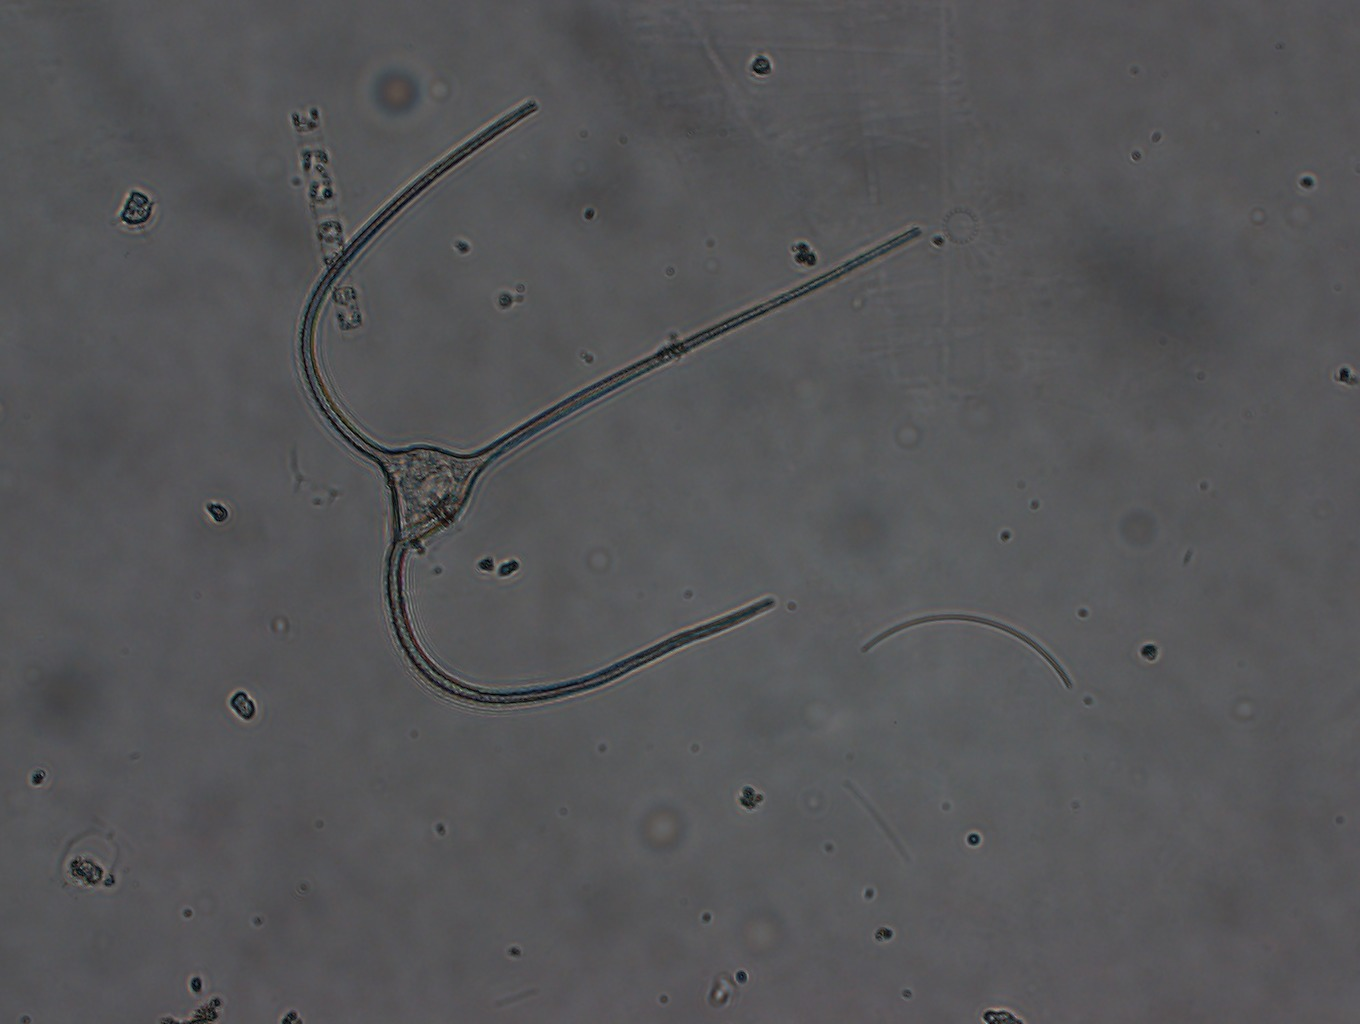ceratium trichoceros: (295, 97, 925, 707)
skeletonema: (289, 105, 360, 342)
